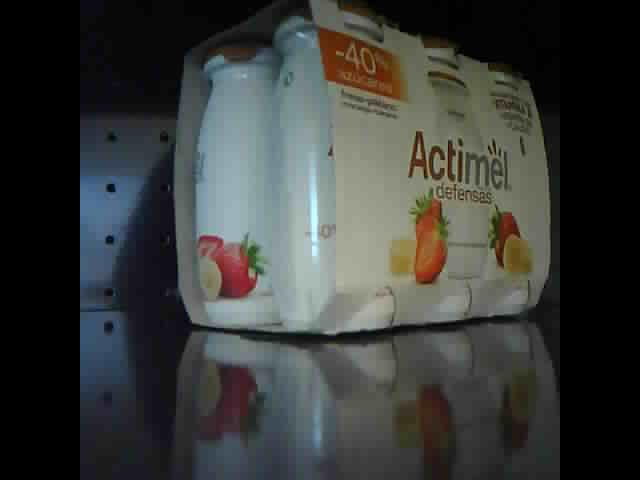actimel: (174, 1, 552, 338)
